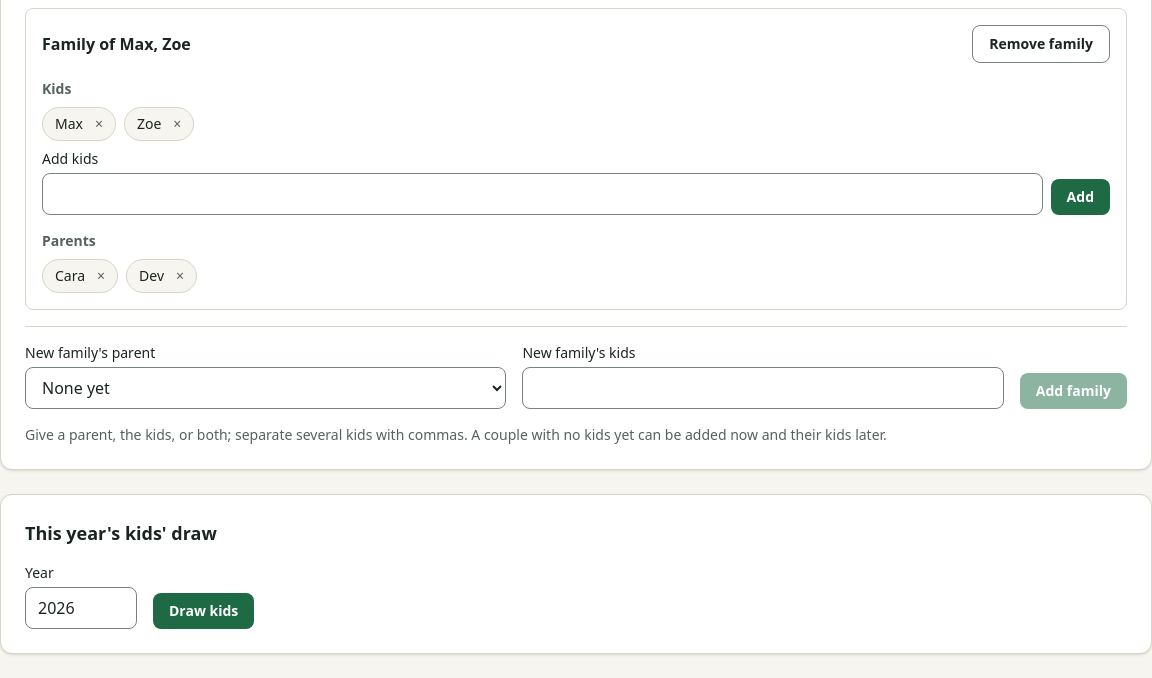
Scenario: KidsPanel › asks for people before drawing
The width and height of the screenshot is (1152, 678).
(page scrolled)
Click the button "Draw kids" at (204, 611), box [153, 593, 254, 629]
(page scrolled)
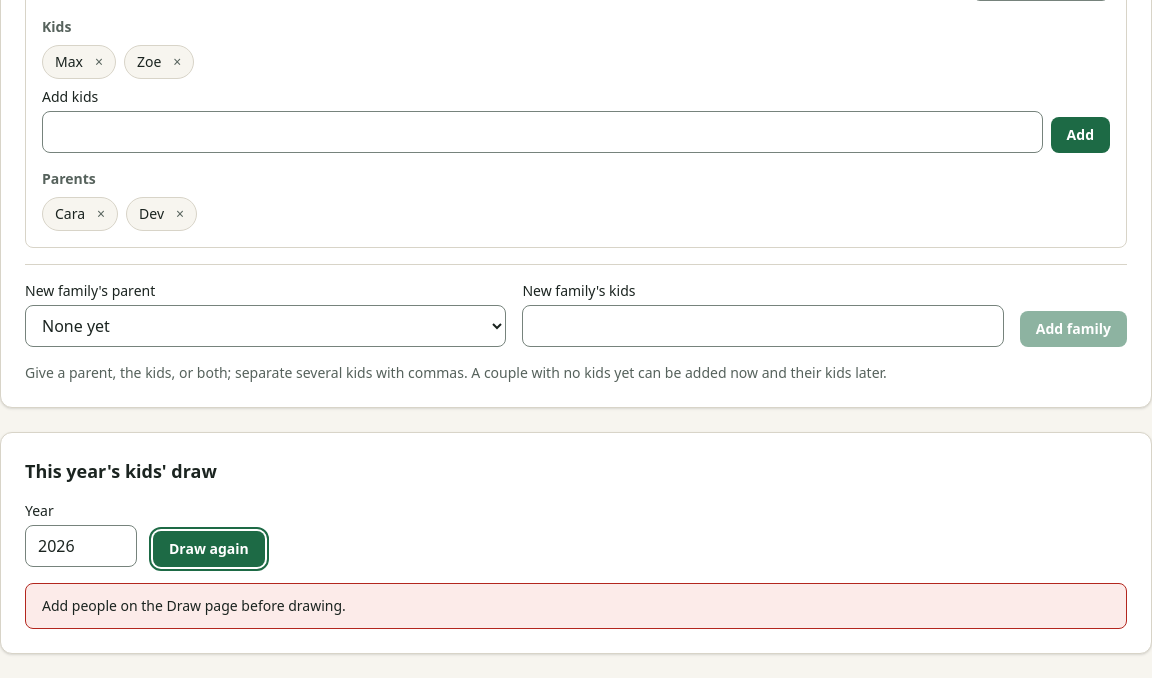
Result: the message shows "Add people" at [42, 596, 346, 615]
